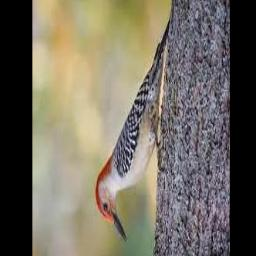Woodpecker: (95, 17, 171, 241)
